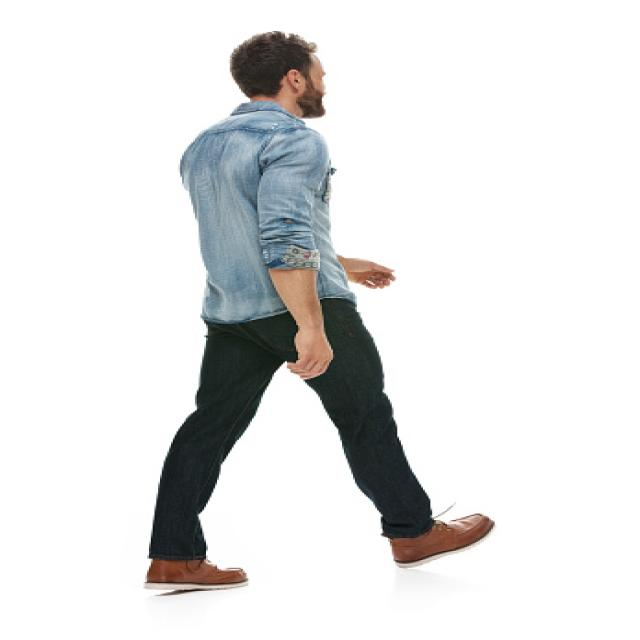Person: (144, 30, 498, 592)
